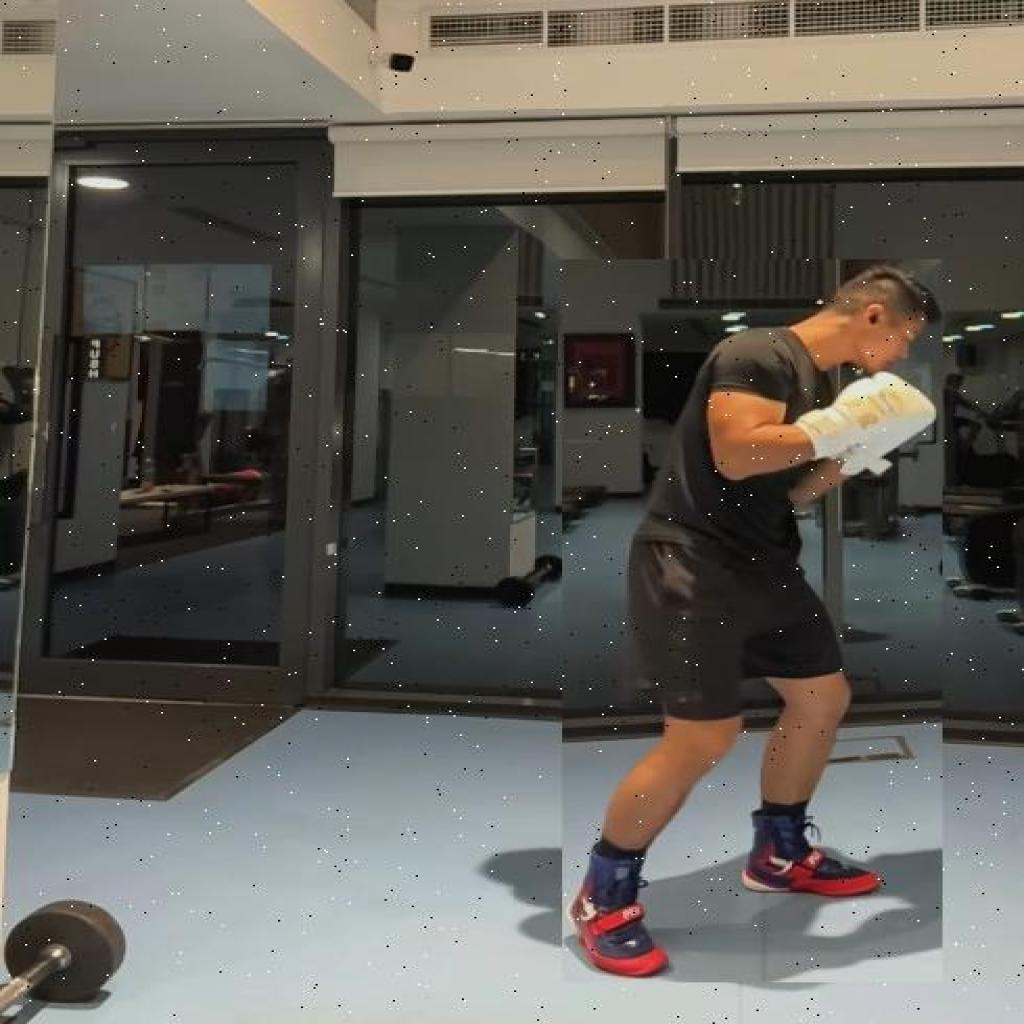no punch: (562, 259, 943, 982)
